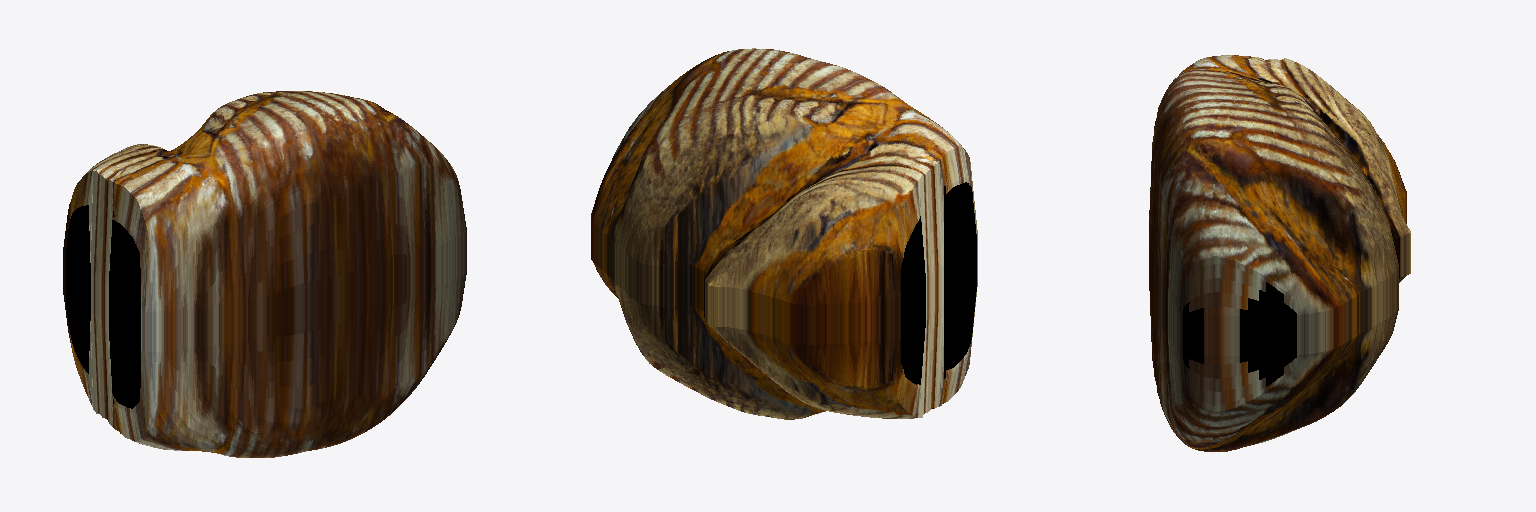
3 views of the same model, side by side, from view 1: azimuth 30°, elevation 25°; view 2: azimuth 150°, elevation 25°; view 3: azimuth 270°, elevation 25° (orthographic).
Parts seen in each view (by area): view 1: Grid; view 2: Grid; view 3: Grid.
Boxes of the visible parts, box(x1,y1,x2,y2) form: Grid: box(63, 91, 466, 457); Grid: box(591, 48, 977, 419); Grid: box(1149, 55, 1410, 451).
Size of the model in its own units: 2.06 by 2 by 1.42.
Materials: 1 (1 with a texture image).